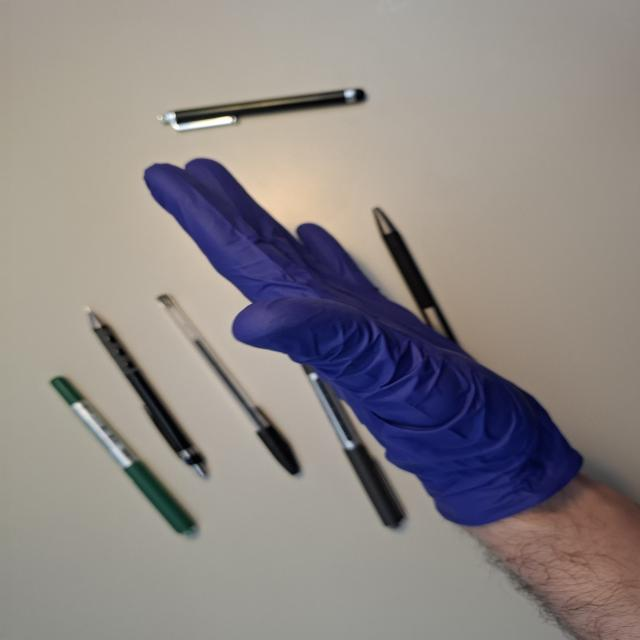glove_on: (140, 156, 588, 526)
